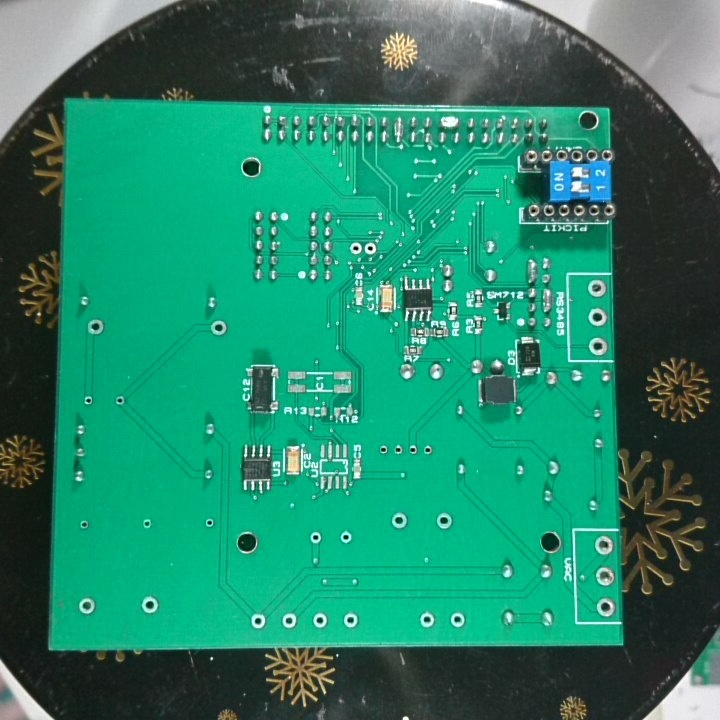F: (593, 593, 617, 618), (585, 304, 608, 330), (592, 562, 615, 588), (139, 592, 162, 618), (585, 331, 608, 356), (591, 533, 614, 558), (75, 593, 98, 617), (585, 277, 608, 300), (431, 508, 454, 531), (388, 509, 410, 533), (310, 609, 331, 632), (341, 609, 362, 631), (415, 609, 438, 629), (208, 318, 229, 339), (84, 316, 105, 337), (447, 609, 468, 629), (248, 610, 267, 631), (305, 528, 324, 548), (279, 610, 297, 631), (337, 527, 352, 549), (362, 238, 377, 259), (347, 239, 362, 258), (391, 441, 406, 460), (75, 517, 91, 534), (112, 392, 127, 410), (420, 441, 434, 460), (139, 515, 154, 532), (405, 442, 420, 459), (82, 392, 95, 410), (202, 515, 215, 532), (377, 442, 389, 458)
P: (523, 253, 538, 286), (391, 112, 404, 146), (437, 113, 461, 130), (539, 286, 553, 314)
